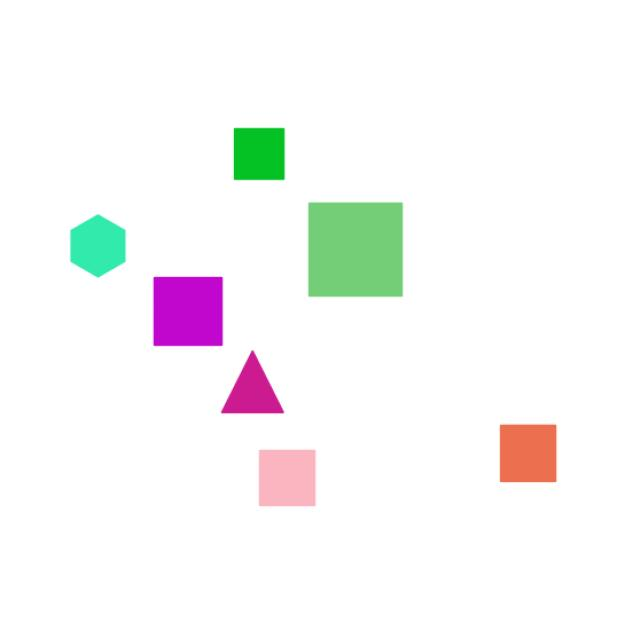Hexagon: (50, 205, 135, 288)
Triangle: (220, 341, 296, 428)
square: (298, 184, 423, 314), (136, 269, 231, 364), (484, 412, 574, 504), (251, 437, 334, 518), (219, 123, 300, 198)
